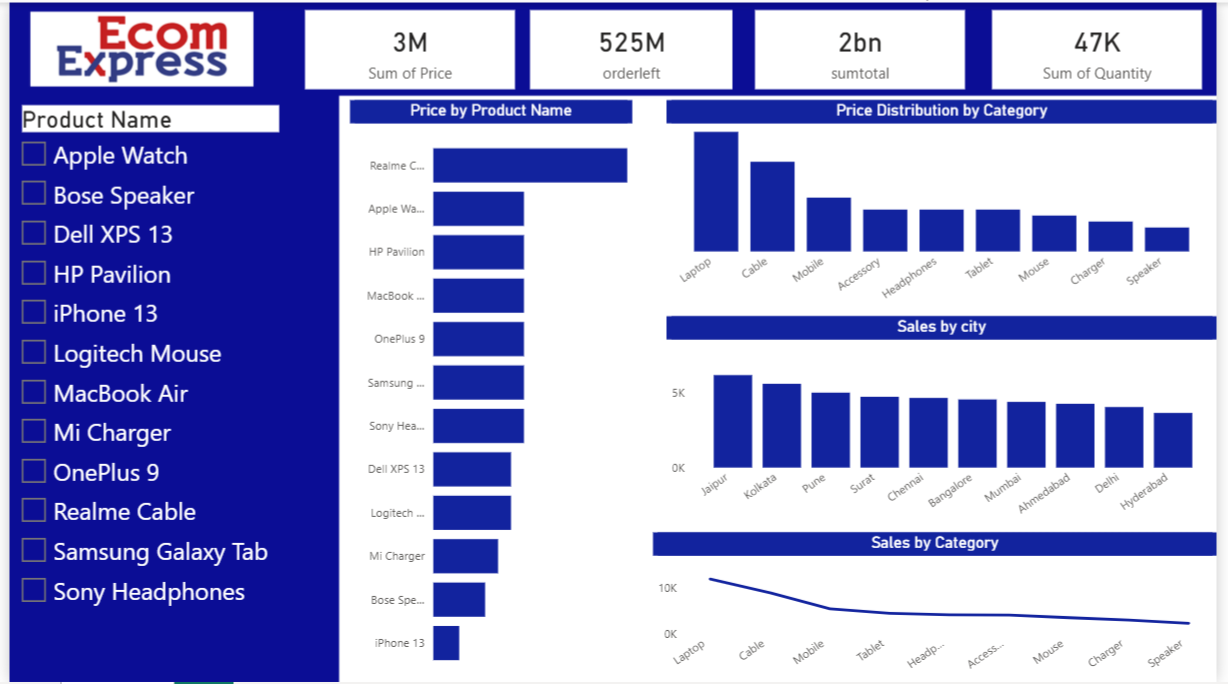

The dashboard page shown, as its layout file describes it:
{"tool":"powerbi","page":{"name":"Page 1","canvas":[1280,720],"ordinal":0},"visuals":[{"type":"barChart","title":" Price by Product Name","fields":{"Category":["Products csv.Product Name"],"Y":["CountNonNull(Products csv.Price)"]},"box":[361.1,103.4,299,617.2],"z":0},{"type":"columnChart","title":" Price Distribution by Category","fields":{"Category":["Products csv.Category"],"Y":["CountNonNull(Products csv.Price)"]},"box":[696.7,103.4,583.8,229],"z":1000},{"type":"columnChart","title":"Sales by city","fields":{"Category":["Customers csv.City"],"Y":["Sum(Orders csv.Quantity)"]},"box":[696.7,332.4,583.8,229],"z":2000},{"type":"lineChart","title":"Sales by Category","fields":{"Category":["Products csv.Category"],"Y":["Sum(Orders csv.Quantity)"]},"box":[682.4,561.5,598.1,159.1],"z":3000},{"type":"slicer","fields":{"Values":["Products csv.Product Name"]},"box":[0,103.4,299,617.2],"z":4000},{"type":"card","fields":{"Values":["Table.orderleft"]},"box":[551.9,8,214.7,84.3],"z":5000},{"type":"card","fields":{"Values":["Table.sumtotal"]},"box":[790.5,8,222.7,84.3],"z":6000},{"type":"card","fields":{"Values":["Sum(Orders csv.Quantity)"]},"box":[1041.9,8,222.7,84.3],"z":7000},{"type":"card","fields":{"Values":["Sum(Products csv.Price)"]},"box":[313.4,8,222.7,84.3],"z":8000}]}

Visuals, with their boxes in screenshot pixels (x1, y1, x2, y2), scaled from the page's 1280x720 canvas onto the 1228x684 screenshot:
" Price by Product Name" barChart: (346, 98, 633, 683)
" Price Distribution by Category" columnChart: (668, 98, 1227, 316)
"Sales by city" columnChart: (668, 316, 1227, 533)
"Sales by Category" lineChart: (655, 533, 1227, 683)
slicer - Products csv.Product Name: (0, 98, 287, 683)
card - Table.orderleft: (529, 8, 735, 88)
card - Table.sumtotal: (758, 8, 972, 88)
card - Sum(Orders csv.Quantity): (1000, 8, 1213, 88)
card - Sum(Products csv.Price): (301, 8, 514, 88)
